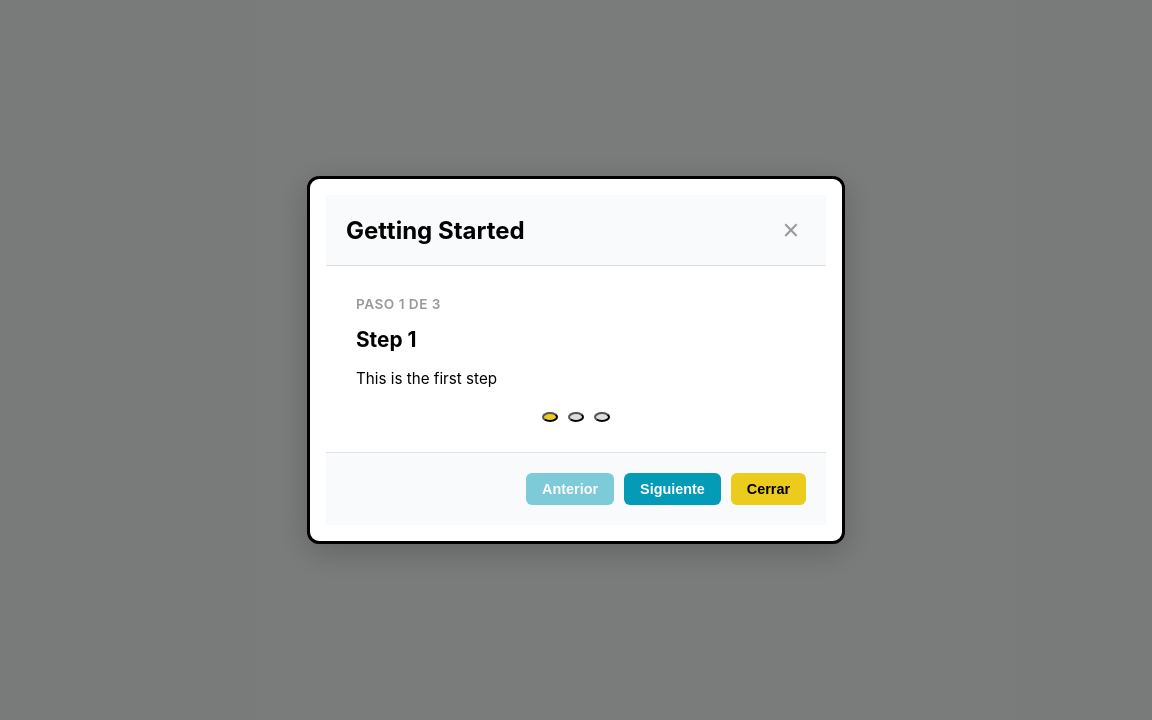
Test: HelpModal › next button advances to next step
Click the button "Siguiente" at (672, 489), box [624,473,721,505]
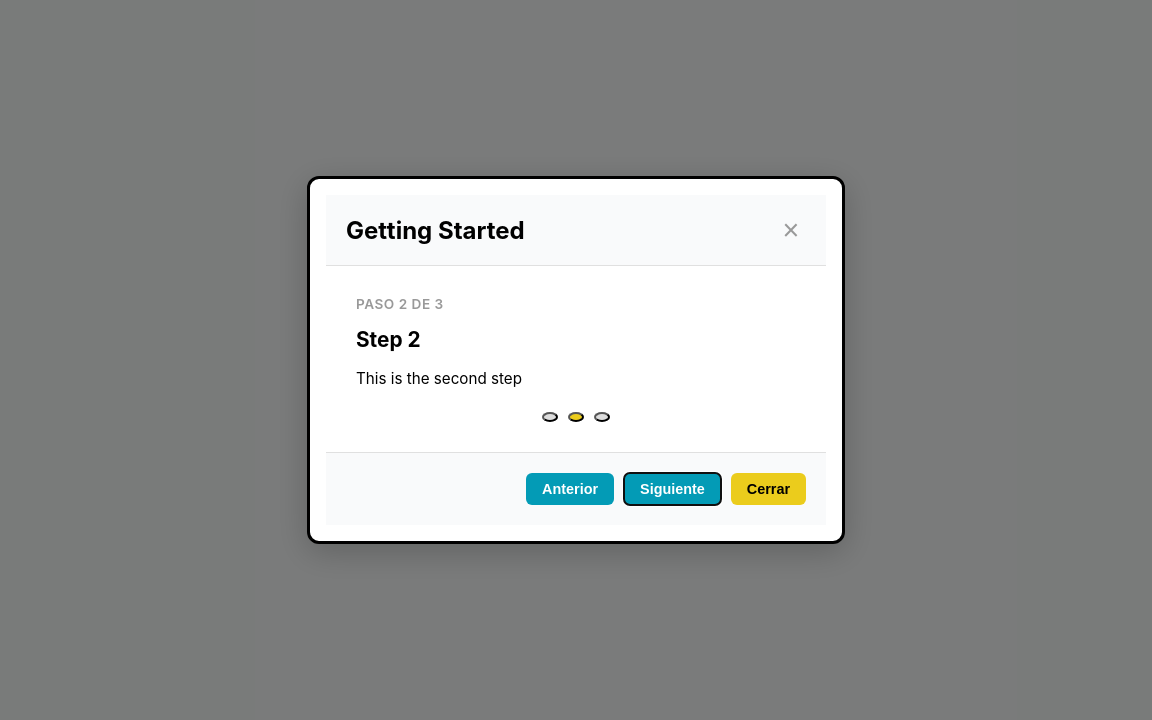
Check: the text "Paso 2 de 3" is shown, box [356,296,444,312]
Check: the heading "Step 2" is shown, box [356,327,421,352]
Check: the text "This is the second step" is shown, box [356,369,522,388]
